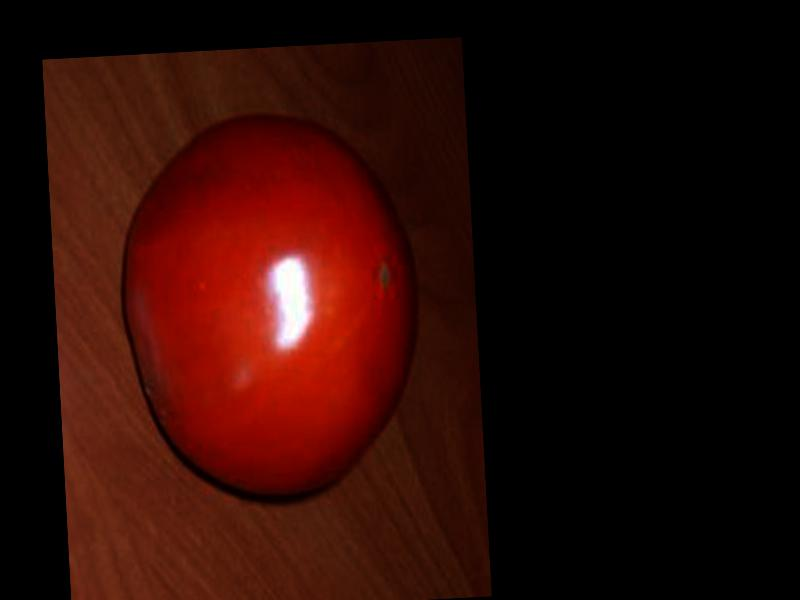Tomato: (115, 102, 429, 510)
